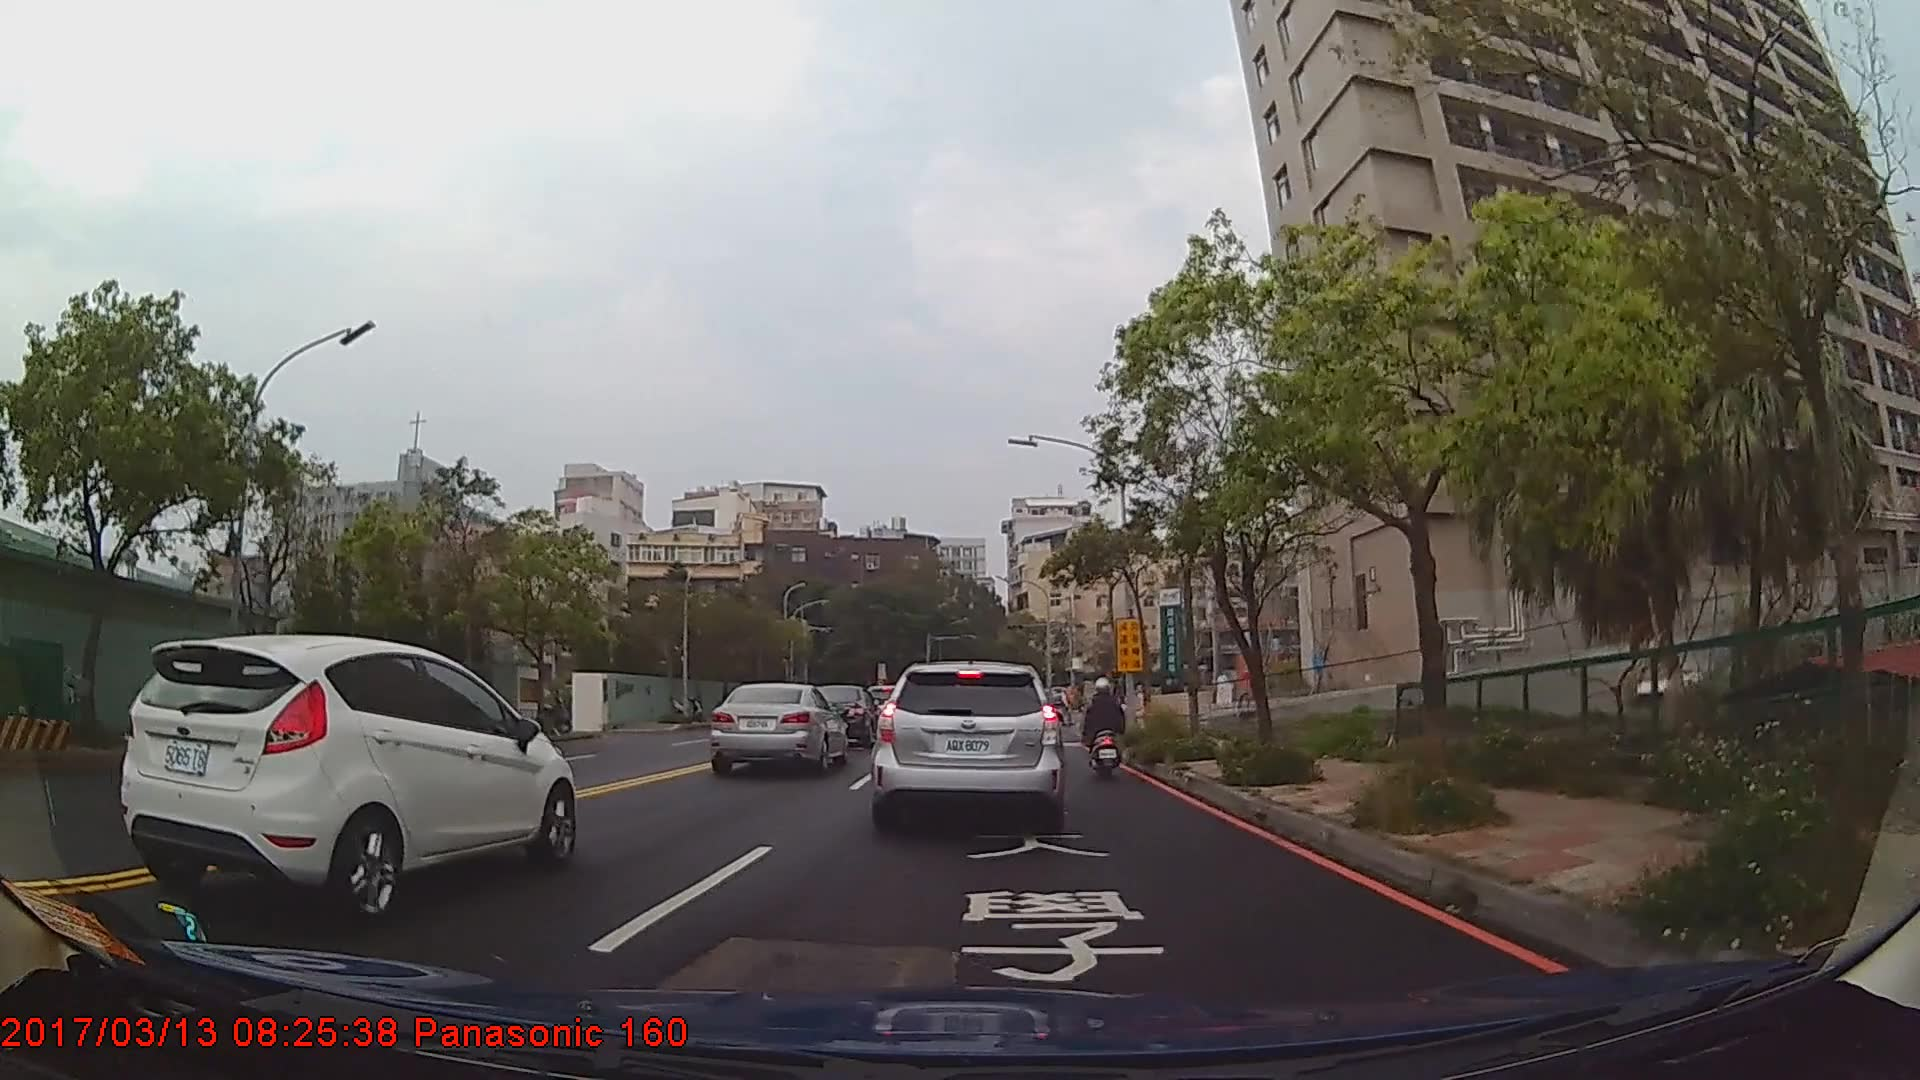rider: (1082, 677, 1127, 784)
vehicle: (117, 630, 576, 924), (869, 659, 1062, 830), (708, 679, 846, 774), (802, 683, 877, 746)
